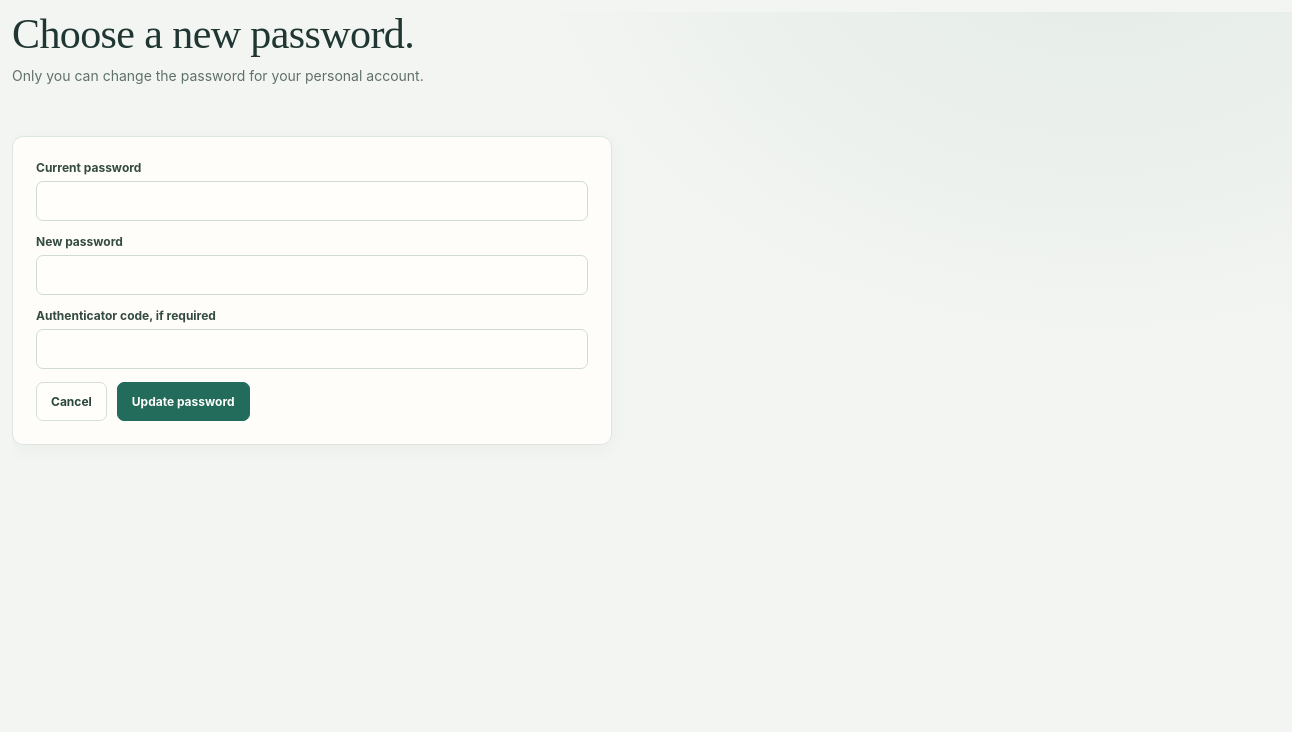
Test case: Finwise key views › keeps password-change success visible after the asynchronous request
The width and height of the screenshot is (1292, 732).
Type "current-password" into the password field labelled "Current password" at (312, 201), box [36, 181, 588, 221]
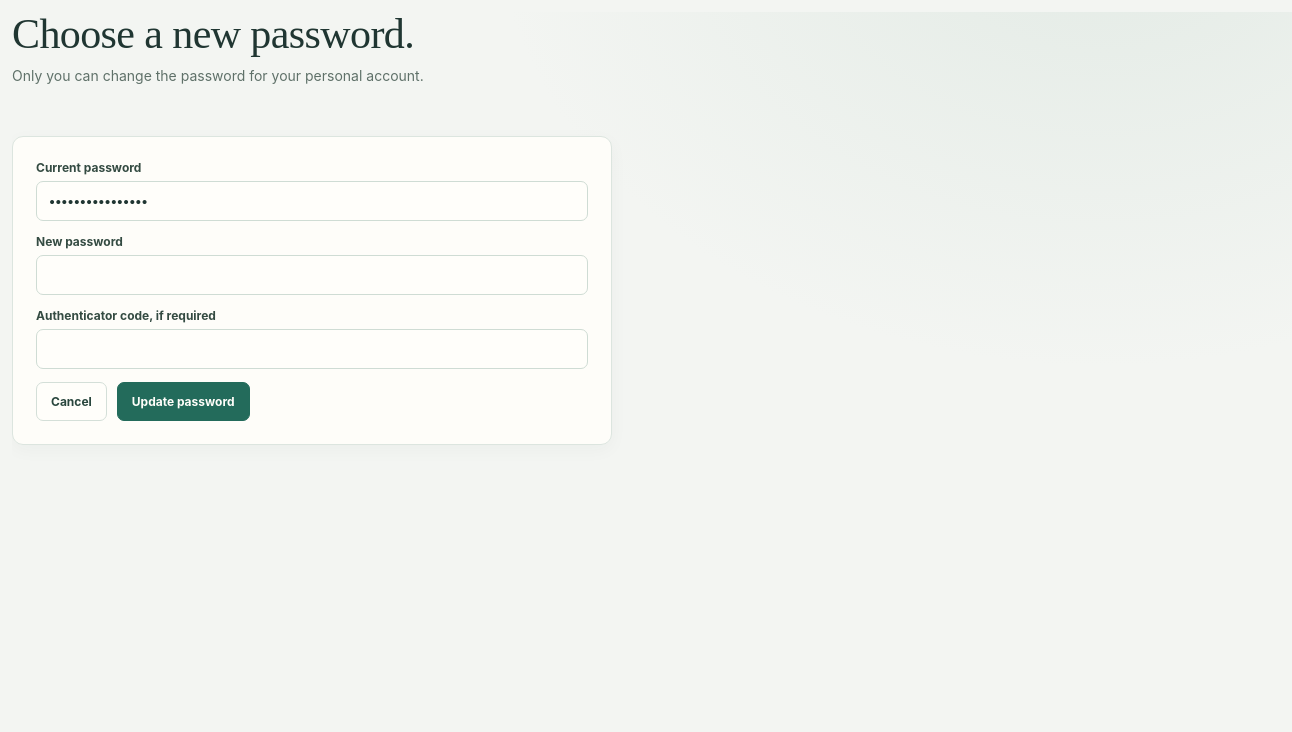
Type "new-strong-password" into the password field labelled "New password" at (312, 275), box [36, 255, 588, 295]
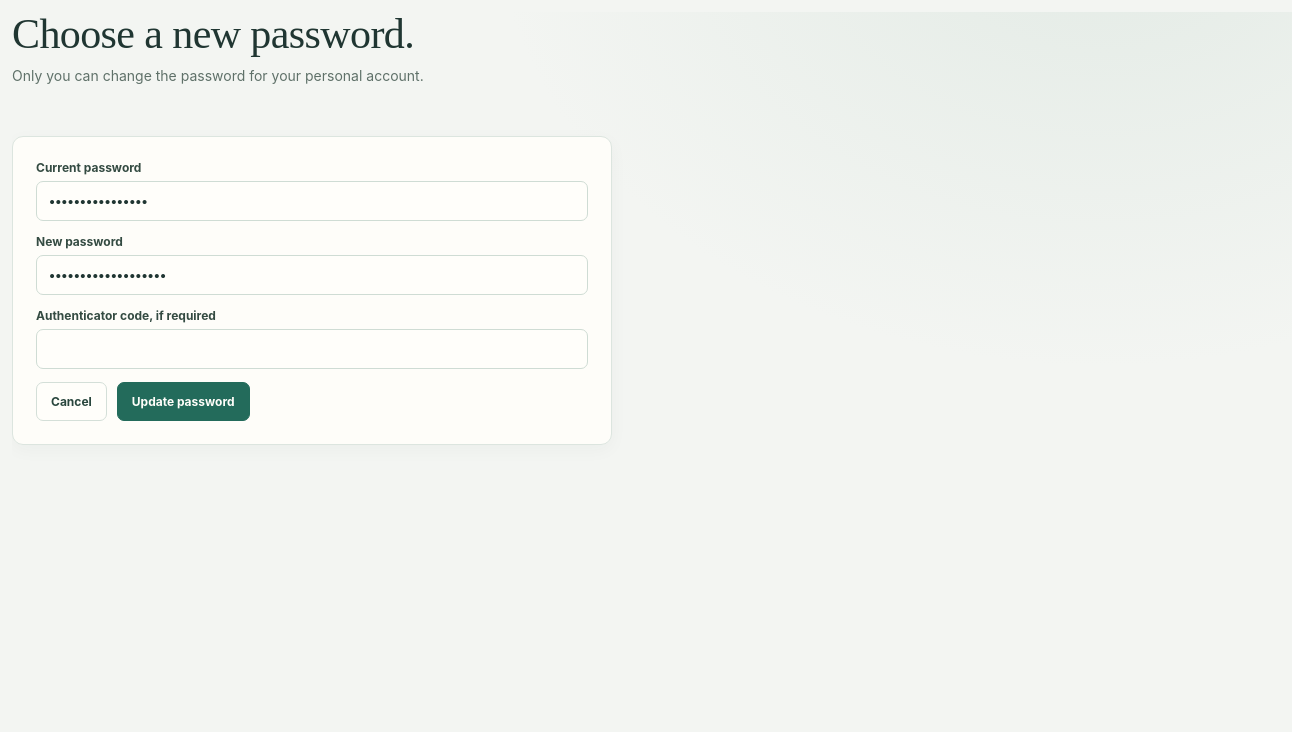
Click the button "Update password" at (183, 401), box [117, 382, 250, 421]
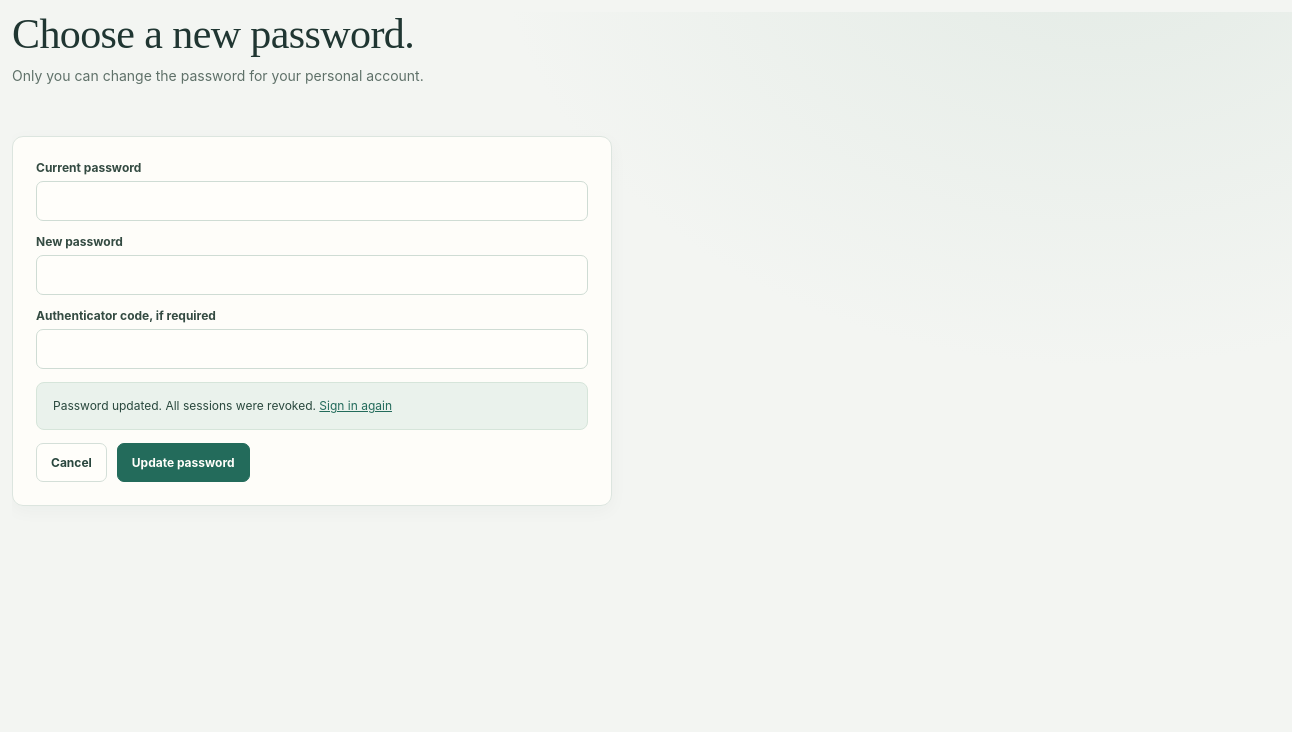
Now the text "Password updated. All sessions were revoked." is shown, box [53, 398, 316, 413]
Now the password field labelled "Current password" is empty, box [36, 181, 588, 221]
